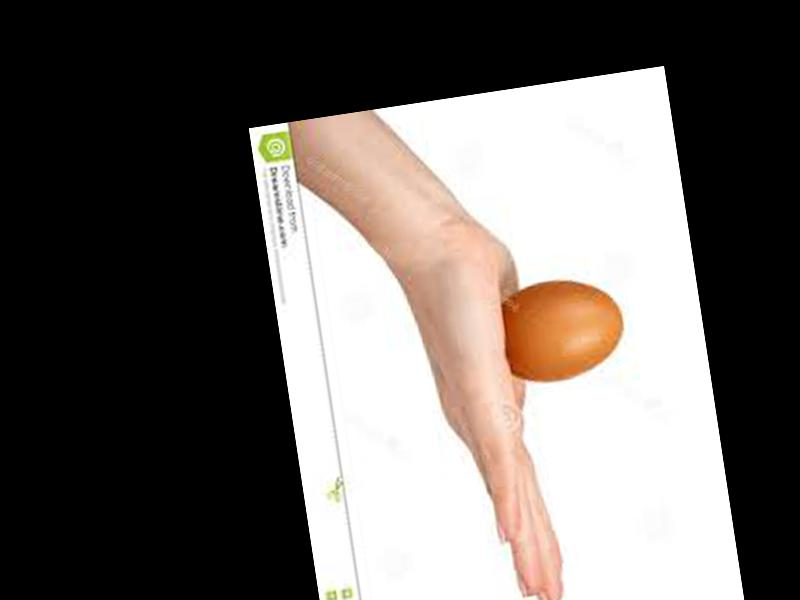Eggs: (494, 273, 629, 388)
